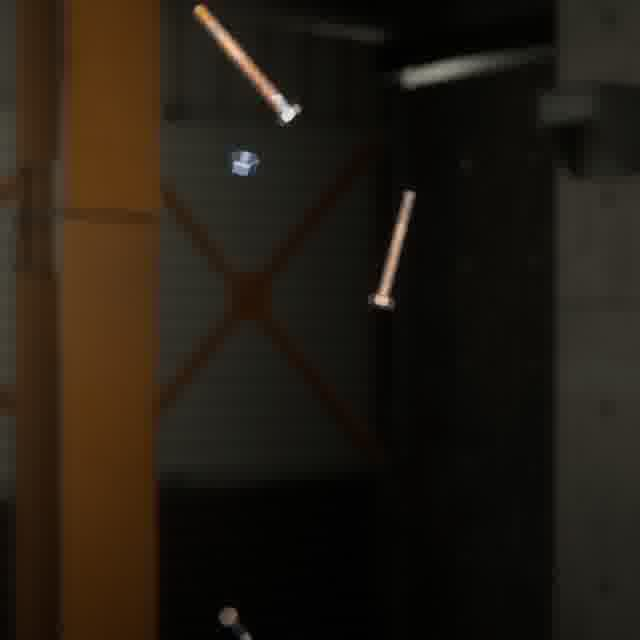bolt: (187, 0, 306, 131), (363, 185, 420, 314), (213, 602, 257, 640)
nut: (223, 145, 264, 180)
